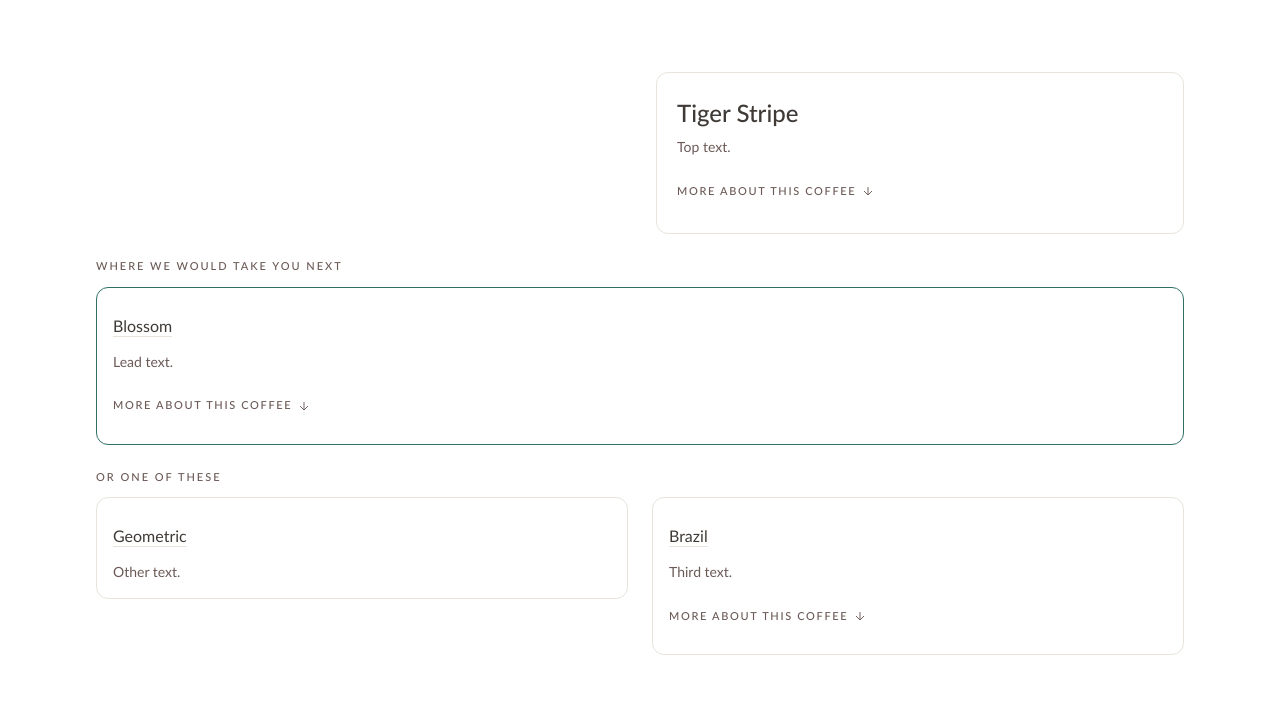
/map: one panel open at a time, beneath its card › laptop: the top card’s panel spans the page under the map and the card; an open step card spans both columns
This screenshot has width=1280, height=715.
Check: the button with test id "more-about-button" below "Lead text." is shown, box [113,384,310,428]
Click the button with test id "more-about-button" below "Top text.". click: (776, 191)
box: [677,169,874,213]
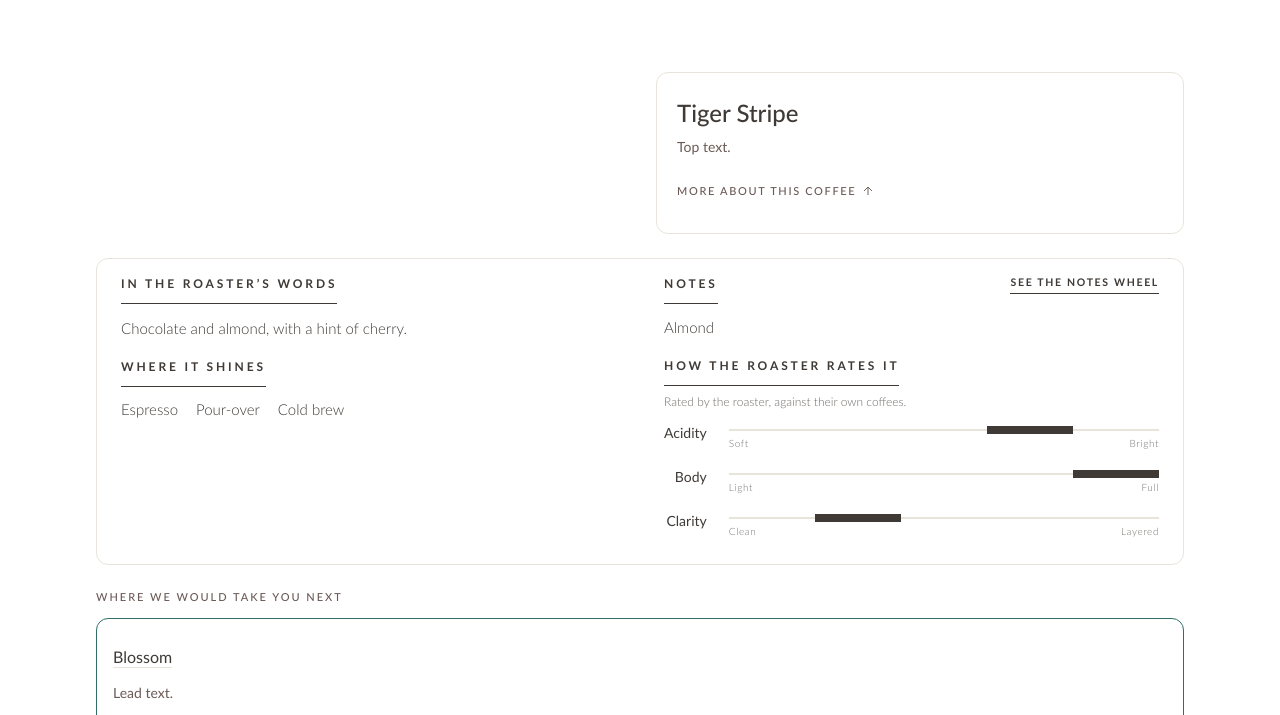
Check: the element with test id "field-reveal" is shown, box [121,259,1159,540]
Click the button with test id "more-about-button" below "Top text.". click: (776, 191)
box: [677,169,874,213]
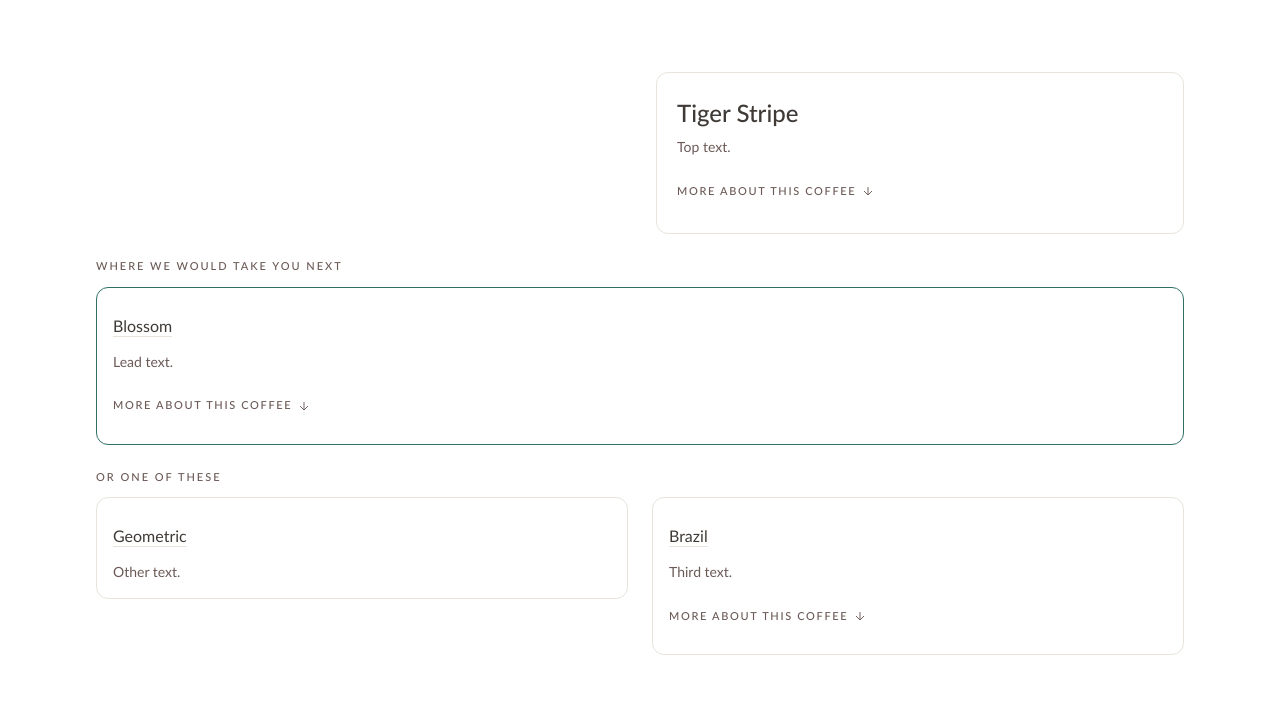
Check: the element with test id "top-panel-wide" is gone
Click the button with test id "more-about-button" below "Third text.". click: (768, 616)
box: [669,594,866,638]
(page scrolled)
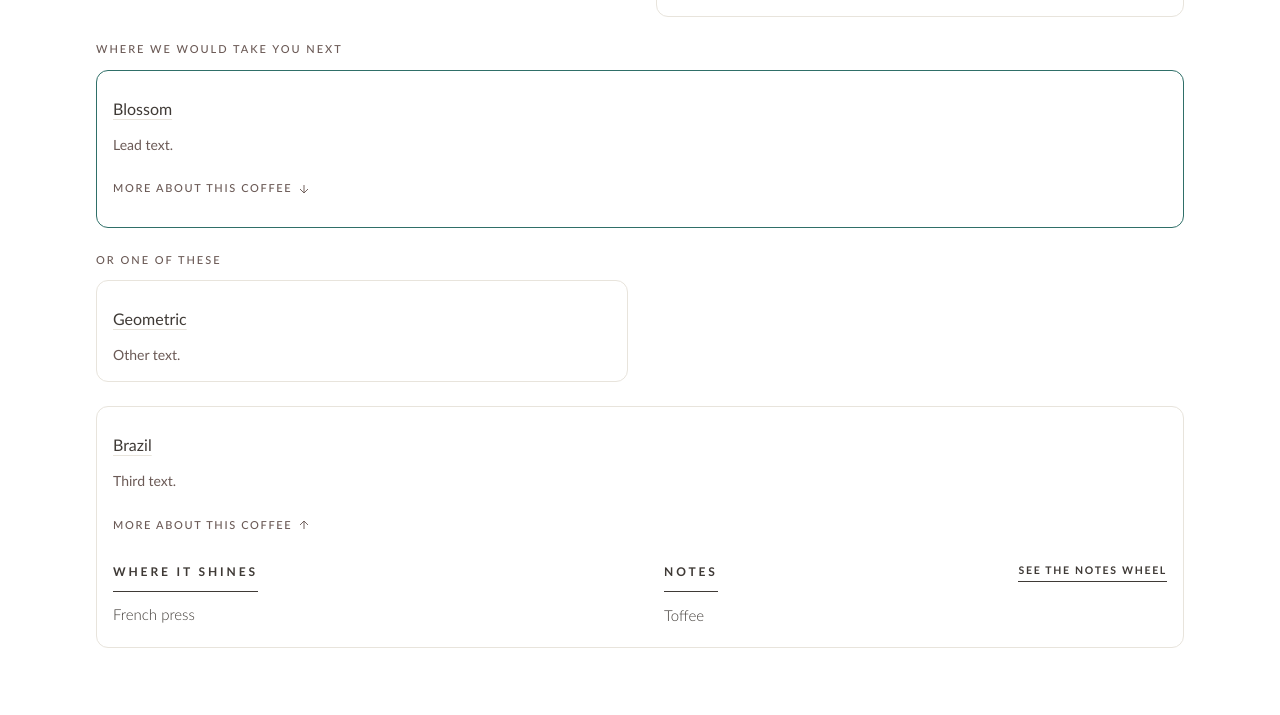
Check: the element with test id "field-reveal" is shown, box [113,547,1167,630]
